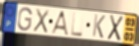A: (50, 10, 70, 37)
G: (17, 7, 34, 33)
K: (92, 13, 107, 40)
L: (70, 11, 84, 38)
X: (106, 13, 125, 42), (32, 8, 50, 35)
